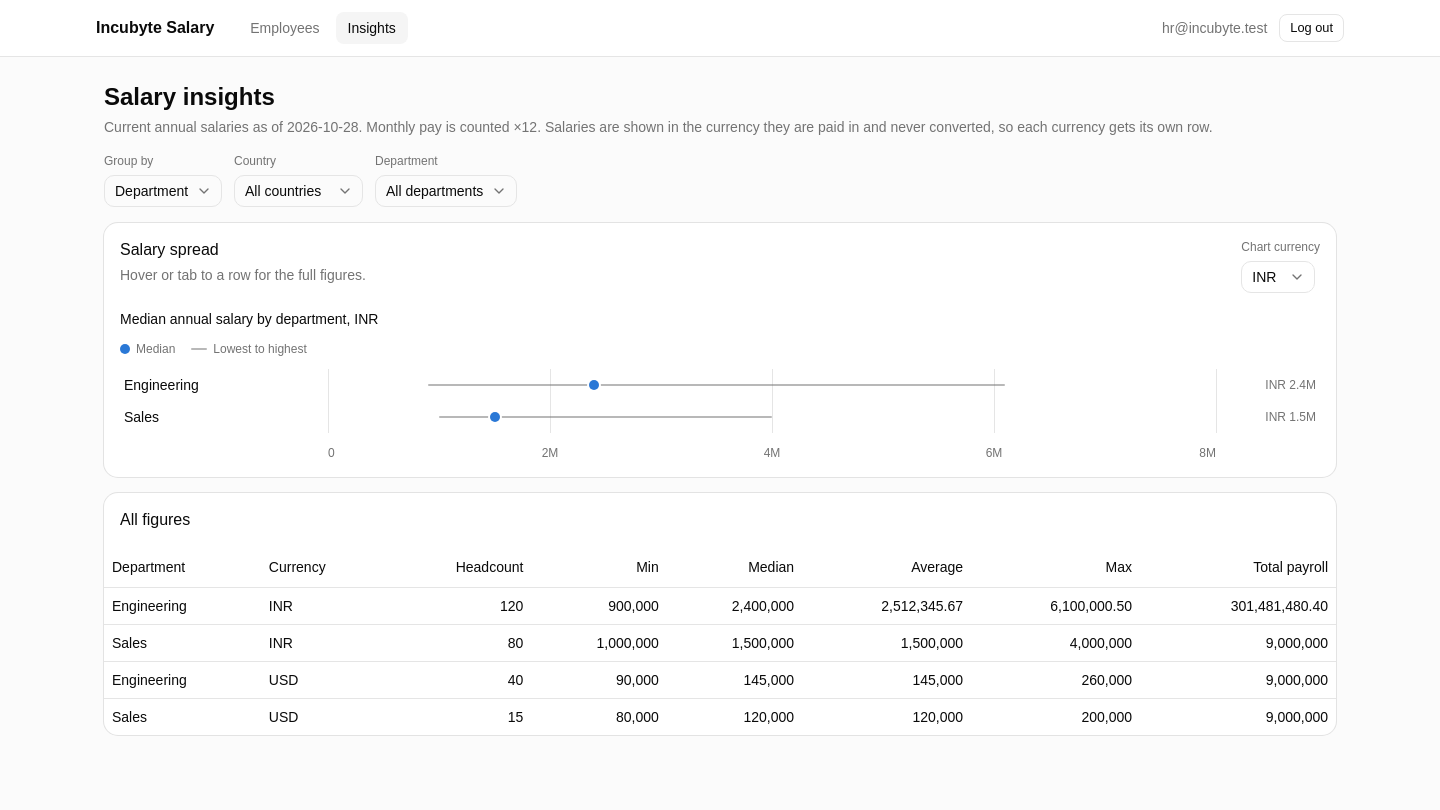
Test case: Salary insights › charts one currency at a time, starting with the one most employees are paid in
Expected: the elements with test id "chart-label" read "Engineering", "Sales", in this order, [124,377,199,393]; [124,409,159,425]
Expected: the text "INR 2.4M" is shown, [1265,378,1316,392]
Select "USD" in the dropdown labelled "Chart currency". click: (1278, 277)
box: [1241,261,1315,293]
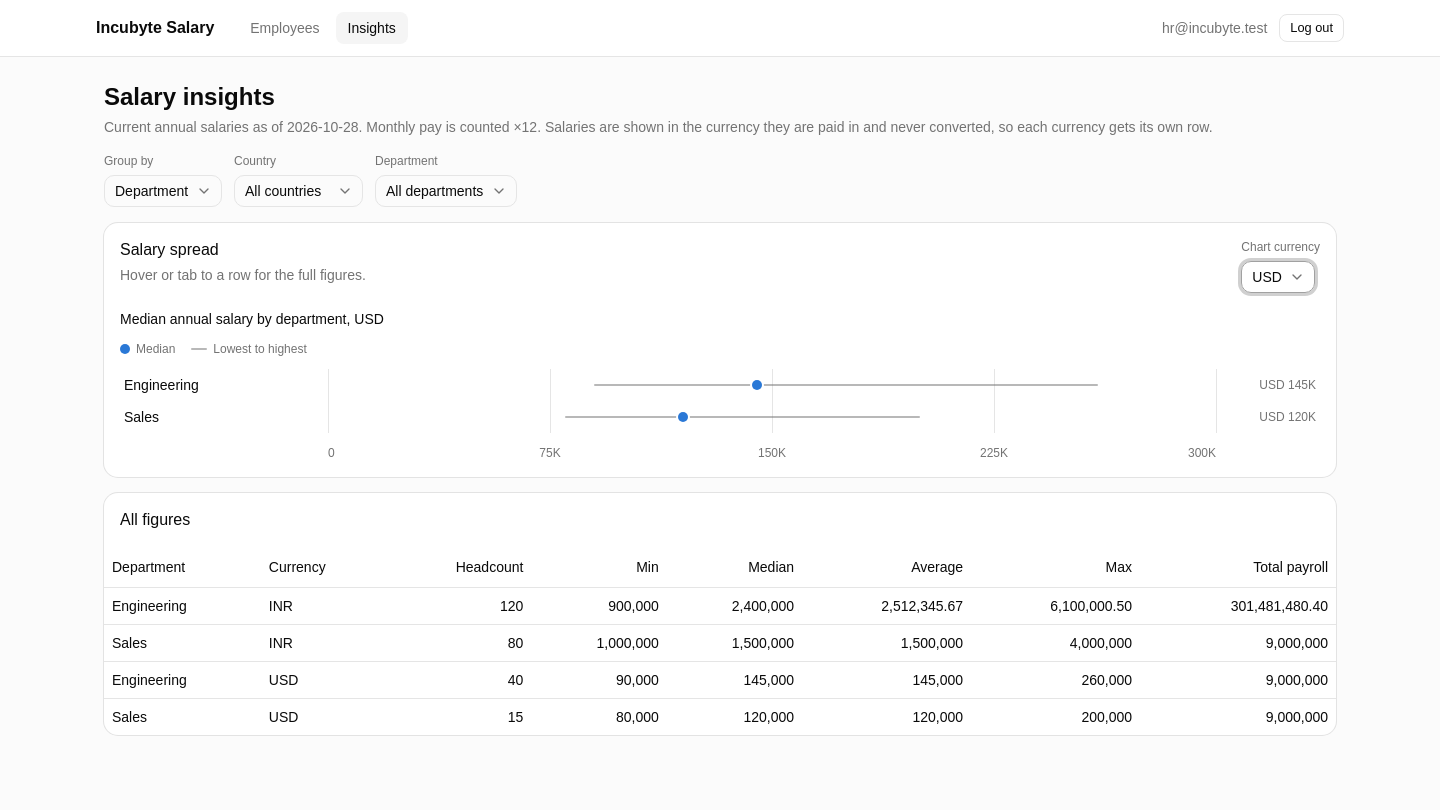
Expected: the element "Median annual salary by department, USD" is shown, [120,309,1320,461]
